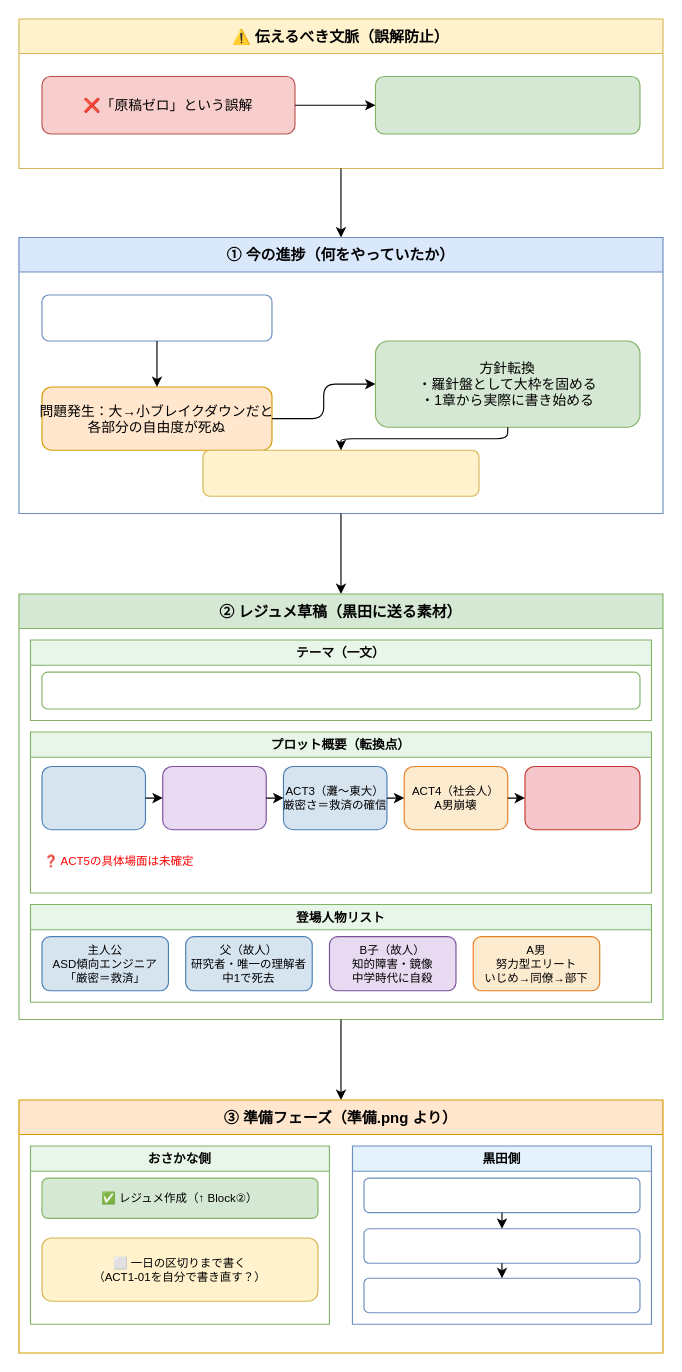
Image size: 682x1372. Some labels were removed from this diagram. Here are the shapes that lost their labels. From the top down, the centre of each, then its label:
point (507, 104): ⭕「書き進め方を模索中」が正確
point (156, 317): 大きめのプロットを作った
point (340, 472): 今あるもの：未完成プロット＋1章書き始め
point (340, 690): 厳密さで世界を守ろうとした人間が、誤解と傷でできた社会を、それでも愛せるようになる話
point (93, 797): ACT1（小学生） 父の死
point (214, 797): ACT2（中学） B子の自殺
point (582, 797): ACT5（クライマックス） A男自殺未遂 → 理解なき愛
point (501, 1195): 原稿を読む
point (501, 1245): 課題洗い出し
point (501, 1295): 改善案提示・目標設定
